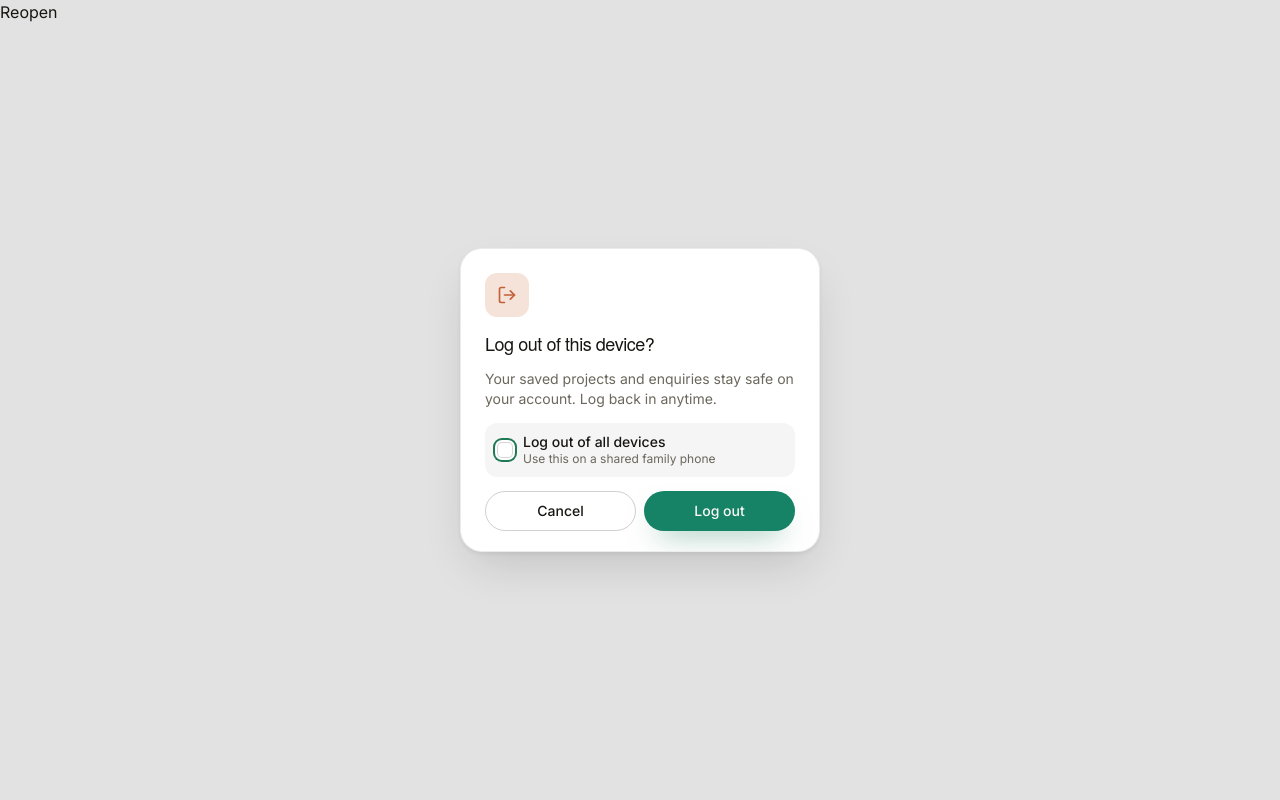
Scenario: AccountLogoutDialog › keeps returned sign-out errors retryable
Click the button "Log out".
click(720, 511)  # box [644, 491, 795, 531]
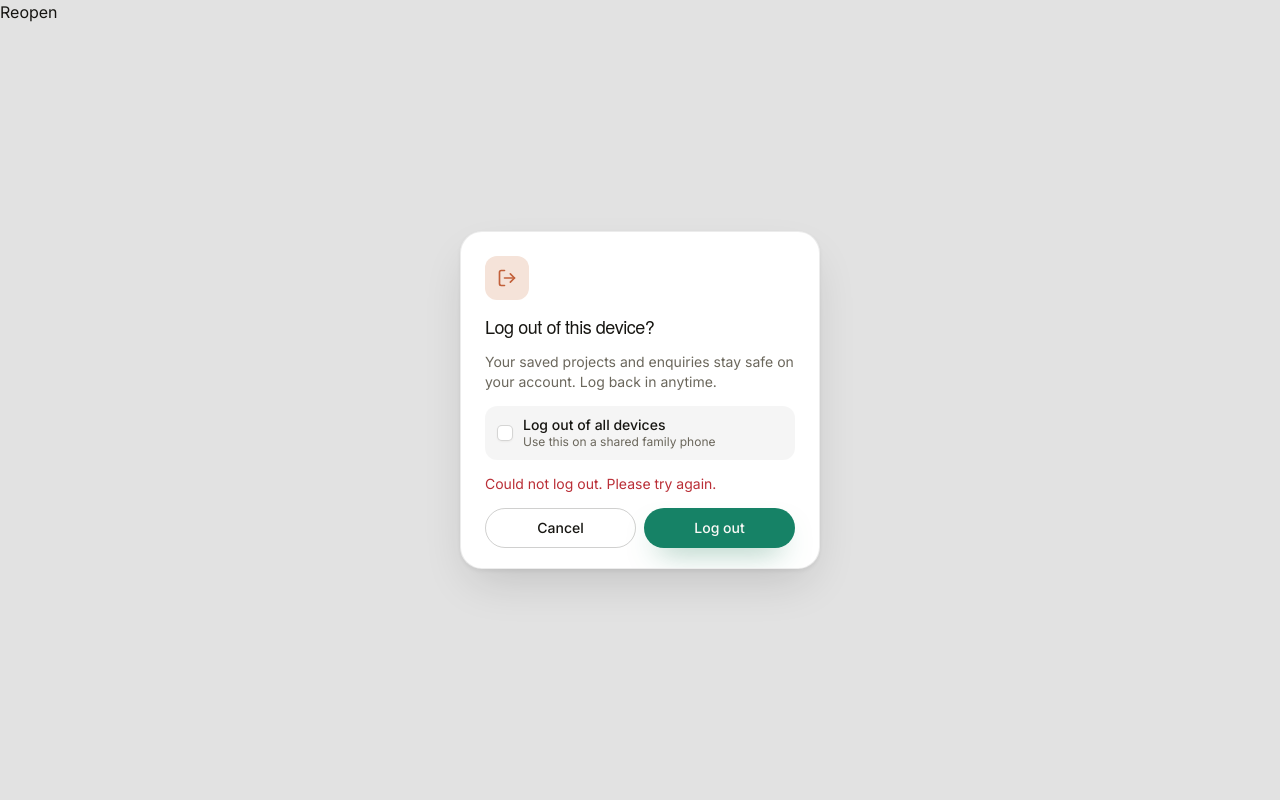
expect the message "Could not log out. Please try again." is shown: met, box [485, 475, 716, 492]
